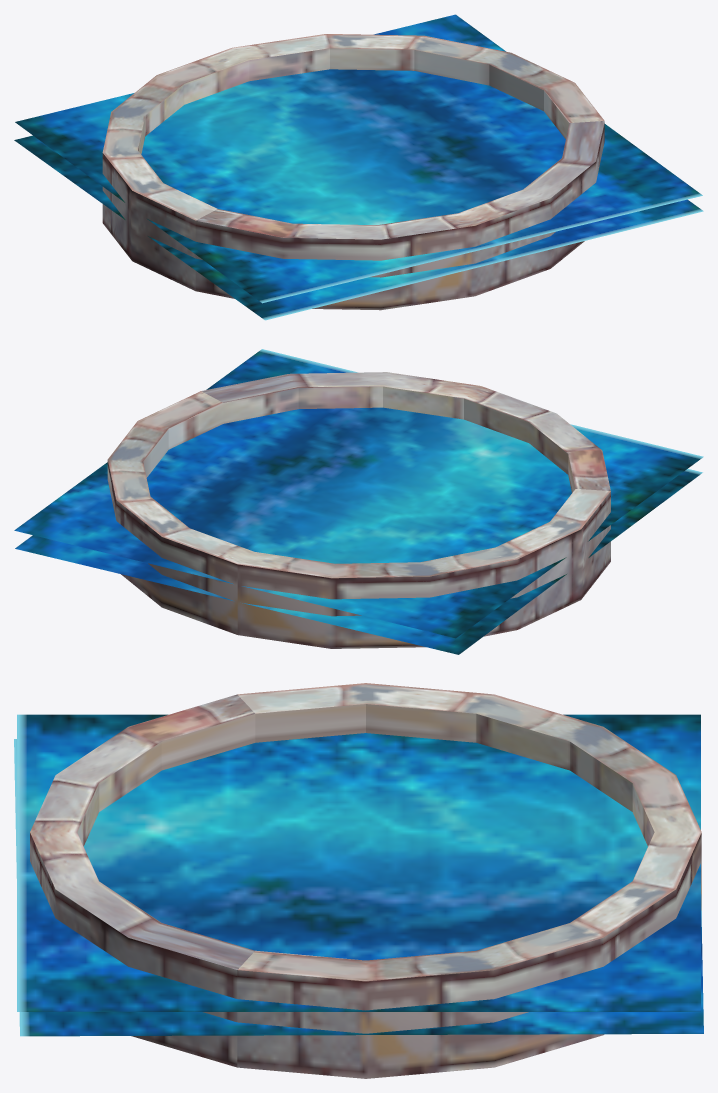
File: hydra_pool.fbx
The picture shows the model from 3 angles, top to bottom: view 1: azimuth 30°, elevation 25°; view 2: azimuth 150°, elevation 25°; view 3: azimuth 270°, elevation 25°; orthographic projection. The views are drawn at different scales.
Parts seen in each view (by area): view 1: Plane03_mesh, Cylinder02_mesh, Plane04_mesh; view 2: Plane03_mesh, Cylinder02_mesh, Plane04_mesh; view 3: Plane03_mesh, Cylinder02_mesh, Plane04_mesh.
Part boxes in pixels (box(x1,y1,x2,y2)): Plane03_mesh: box(15, 14, 702, 303); Cylinder02_mesh: box(102, 34, 604, 310); Plane04_mesh: box(14, 135, 703, 320); Plane03_mesh: box(14, 349, 703, 638); Cylinder02_mesh: box(107, 372, 610, 648); Plane04_mesh: box(15, 469, 702, 654); Plane03_mesh: box(17, 714, 700, 1011); Cylinder02_mesh: box(30, 683, 701, 1078); Plane04_mesh: box(14, 739, 703, 1036).
Size of the model in its own units: 4.74 by 0.7159 by 4.59.
